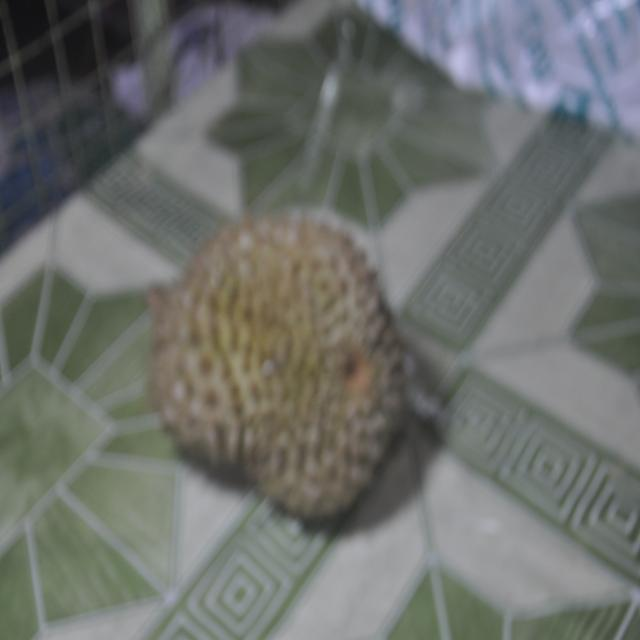mature: (148, 217, 404, 518)
